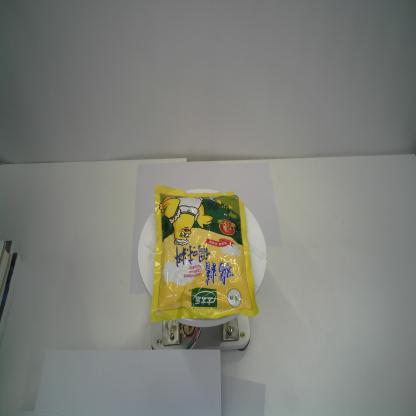Seasoner: (150, 182, 260, 324)
